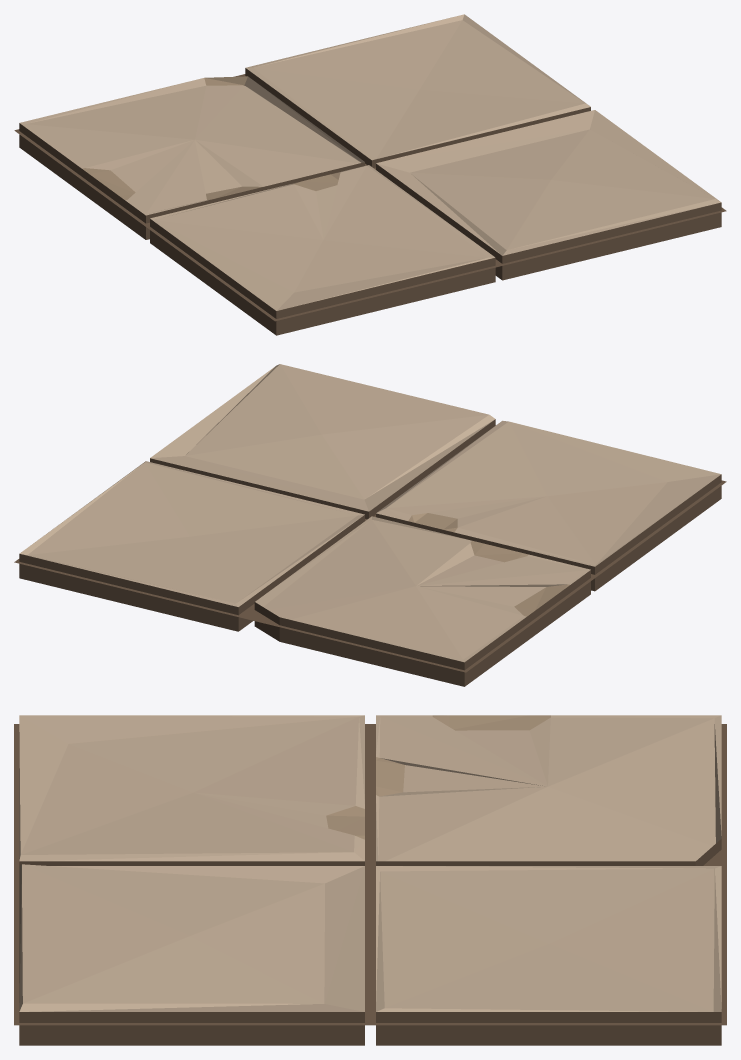
Rendered from SM_Ground_PavingTile_06.fbx.
3 views of the same model, one above another, from view 1: azimuth 30°, elevation 25°; view 2: azimuth 150°, elevation 25°; view 3: azimuth 270°, elevation 25° (orthographic). The views are drawn at different scales.
Visible parts, largest first — view 1: SM_Ground_PavingTile_06; view 2: SM_Ground_PavingTile_06; view 3: SM_Ground_PavingTile_06.
Boxes of the visible parts, x1,y1,x2,y2 form: SM_Ground_PavingTile_06: (14,14,726,335); SM_Ground_PavingTile_06: (14,364,726,686); SM_Ground_PavingTile_06: (14,715,726,1045).
Bounding box in the file's own units: 1 × 0.0599 × 1.
1 material, 1 textured.
